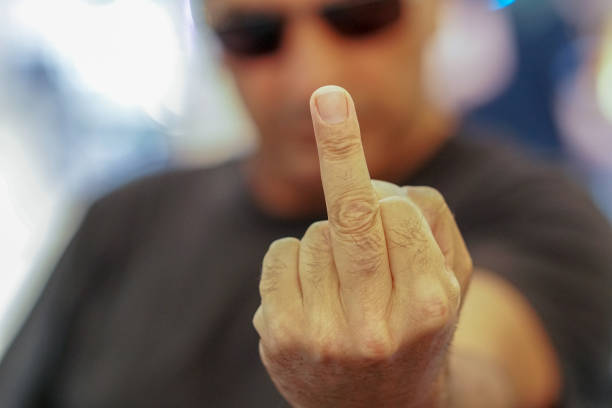insulting_gesture: (252, 84, 475, 408)
